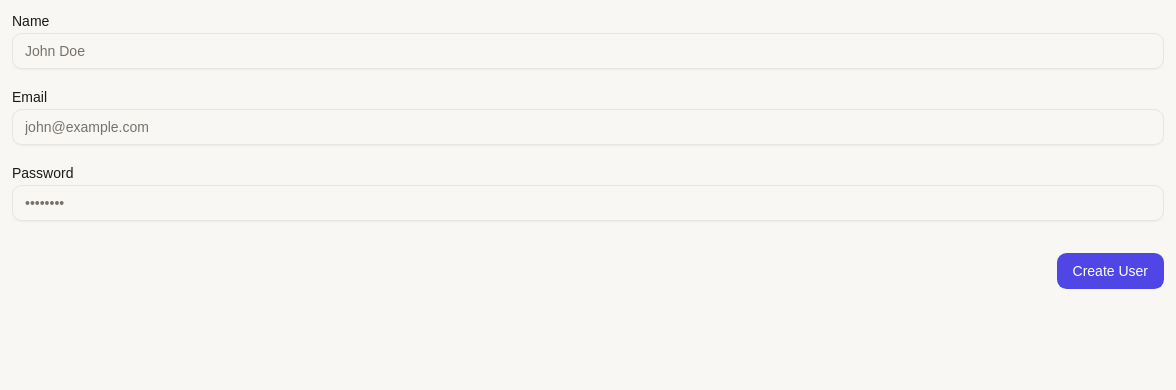
Test: UserForm Component › shows validation errors for empty required fields on submit
Click the button "Create User" at x=1110, y=271, box left=1056, top=253, right=1164, bottom=289
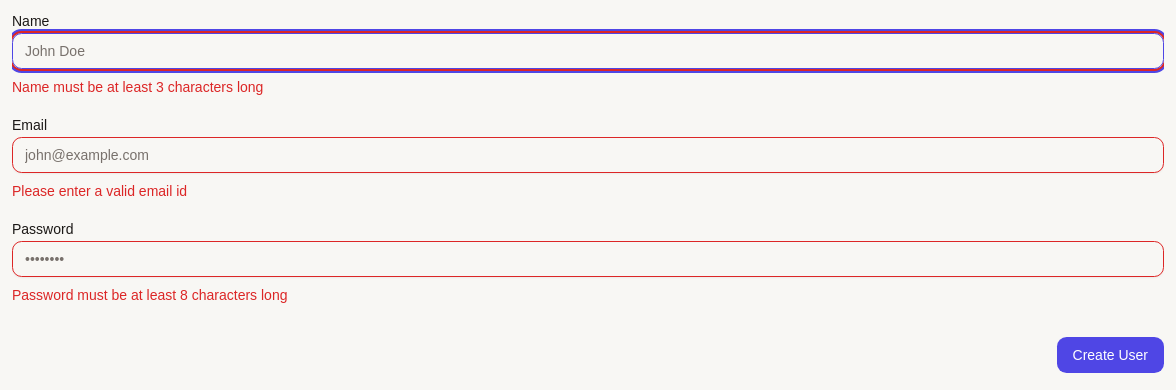
Result: the text "Name must be at least 3 characters long" is shown at left=12, top=79, right=263, bottom=95
